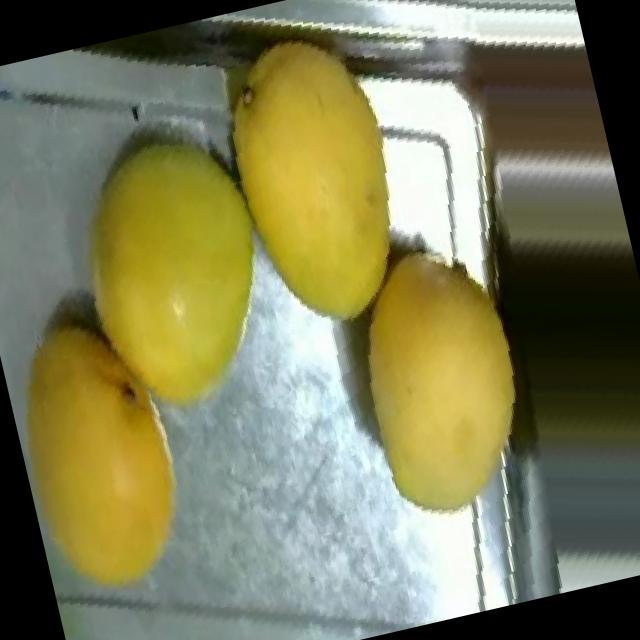fruit: (19, 80, 348, 460), (159, 0, 460, 368), (0, 268, 252, 638), (310, 215, 567, 544)
